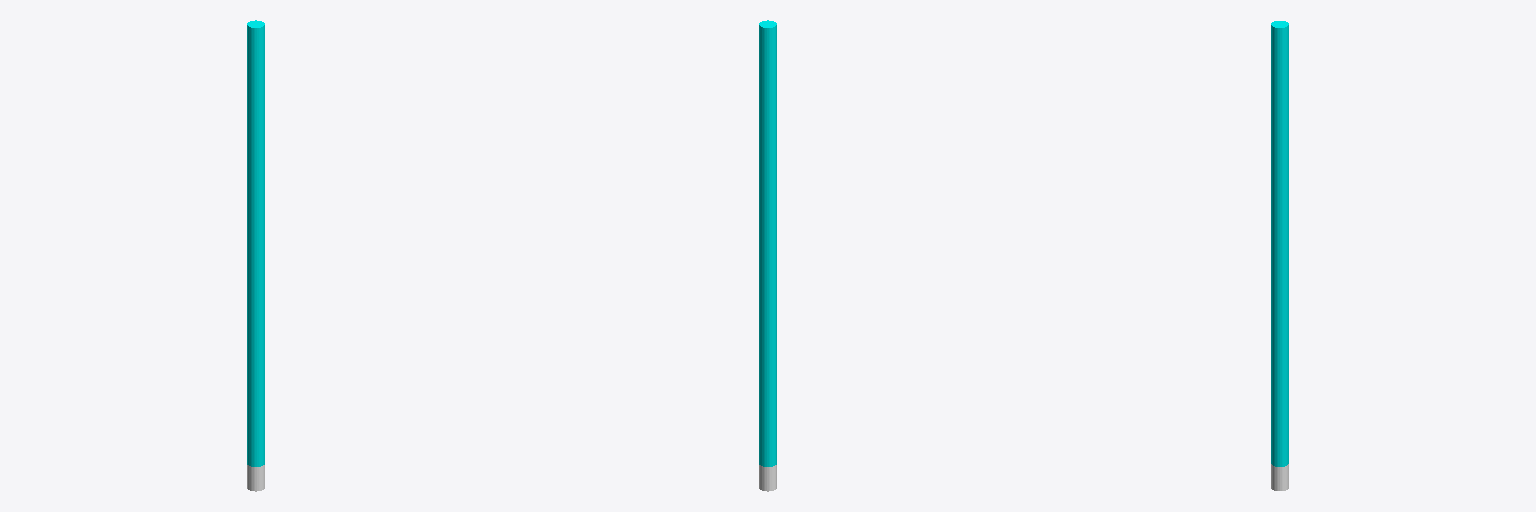
--- Facts derived from the render (not from the file) ---
Views: 3 orthographic renders of the robot side by side, from view 1: azimuth 30°, elevation 25°; view 2: azimuth 150°, elevation 25°; view 3: azimuth 270°, elevation 25°.
Model Line1101 with 37 links and 36 joints (36 revolute), rooted at link1, posed every joint at zero.
Links seen in each view (by area): view 1: fack_link19; view 2: fack_link19; view 3: fack_link19.
Link boxes in pixels (bbox=[...]): fack_link19: bbox=[247, 20, 264, 51]; fack_link19: bbox=[759, 20, 776, 51]; fack_link19: bbox=[1271, 21, 1288, 51].
Size in the robot's own frame: 0.02 by 0.02 by 0.57 metres.
Meshes: 2 distinct files referenced, 37 mesh visuals loaded (2 binary STL).

URDF robot description (Line1101):
<?xml version="1.0" encoding="utf-8"?>
<!-- This URDF was automatically created by SolidWorks to URDF Exporter! Originally created by Stephen Brawner ([email redacted]) 
     Commit Version: 1.6.0-4-g7f85cfe  Build Version: 1.6.7995.38578
     For more information, please see http://wiki.ros.org/sw_urdf_exporter -->

<robot
  name="Line1101">
  <link
    name="link1">
    <inertial>
      <origin
        xyz="0 0 0.015"
        rpy="0 0 0" />
      <mass
        value="0.0094248" />
      <inertia
        ixx="9.4248E-07"
        ixy="0"
        ixz="-2.732E-39"
        iyy="9.4248E-07"
        iyz="-4.5918E-39"
        izz="4.7124E-07" />
    </inertial>
    <visual>
      <origin
        xyz="0 0 0"
        rpy="0 0 0" />
      <geometry>
        <mesh
          filename="package://Line1101/meshes/link1.STL" />
      </geometry>
      <material
        name="link1">
        <color
          rgba="1 1 1 1" />
      </material>
    </visual>
    <collision>
      <origin
        xyz="0 0 0"
        rpy="0 0 0" />
      <geometry>
        <mesh
          filename="package://Line1101/meshes/link1.STL" />
      </geometry>
    </collision>
  </link>
<!--=====================link2 and link3====================-->
<!--=====================link2====================-->
  <joint
    name="fack_joint2"
    type="revolute">
    <origin
      xyz="0 0 0.03"
      rpy="0 0 0" />
    <parent
      link="link1" />
    <child
      link="fack_link2" />
    <axis
      xyz="1 0 0" />
    <limit
      lower="-0.785"
      upper="0.785"
      effort="0"
      velocity="0" />
  </joint>

  <link
    name="fack_link2">
    <visual>
      <origin
        xyz="0 0 0"
        rpy="0 0 0" />
      <geometry>
        <mesh
          filename="package://Line1101/meshes/link2.STL" />
      </geometry>
      <material
        name="fack_link2">
        <color
          rgba="0 1 1 0" />
      </material>
    </visual>
  </link>

  <joint
    name="joint2"
    type="revolute">
    <origin
      xyz="0 0 0"
      rpy="0 0 0" />
    <parent
      link="fack_link2" />
    <child
      link="link2" />
    <axis
      xyz="0 1 0" />
    <limit
      lower="-0.785"
      upper="0.785"
      effort="0"
      velocity="0" />
  </joint>

  <link
    name="link2">
    <inertial>
      <origin
        xyz="0 0 0.015"
        rpy="0 0 0" />
      <mass
        value="0.0094248" />
      <inertia
        ixx="9.4248E-07"
        ixy="0"
        ixz="-2.732E-39"
        iyy="9.4248E-07"
        iyz="-4.5918E-39"
        izz="4.7124E-07" />
    </inertial>
    <visual>
      <origin
        xyz="0 0 0"
        rpy="0 0 0" />
      <geometry>
        <mesh
          filename="package://Line1101/meshes/link2.STL" />
      </geometry>
      <material
        name="link2">
        <color
          rgba="0 1 1 1" />
      </material>
    </visual>
    <collision>
      <origin
        xyz="0 0 0"
        rpy="0 0 0" />
      <geometry>
        <mesh
          filename="package://Line1101/meshes/link2.STL" />
      </geometry>
    </collision>
  </link>
<!--=====================link3====================-->
  <joint
    name="fack_joint3"
    type="revolute">
    <origin
      xyz="0 0 0.03"
      rpy="0 0 0" />
    <parent
      link="link2" />
    <child
      link="fack_link3" />
    <axis
      xyz="1 0 0" />
    <limit
      lower="-0.785"
      upper="0.785"
      effort="0"
      velocity="0" />
  </joint>

  <link
    name="fack_link3">
    <visual>
      <origin
        xyz="0 0 0"
        rpy="0 0 0" />
      <geometry>
        <mesh
          filename="package://Line1101/meshes/link2.STL" />
      </geometry>
      <material
        name="fack_link3">
        <color
          rgba="0 1 1 0" />
      </material>
    </visual>
  </link>

  <joint
    name="joint3"
    type="revolute">
    <origin
      xyz="0 0 0"
      rpy="0 0 0" />
    <parent
      link="fack_link3" />
    <child
      link="link3" />
    <axis
      xyz="0 1 0" />
    <limit
      lower="-0.785"
      upper="0.785"
      effort="0"
      velocity="0" />
  </joint>

  <link
    name="link3">
    <inertial>
      <origin
        xyz="0 0 0.015"
        rpy="0 0 0" />
      <mass
        value="0.0094248" />
      <inertia
        ixx="9.4248E-07"
        ixy="0"
        ixz="-2.732E-39"
        iyy="9.4248E-07"
        iyz="-4.5918E-39"
        izz="4.7124E-07" />
    </inertial>
    <visual>
      <origin
        xyz="0 0 0"
        rpy="0 0 0" />
      <geometry>
        <mesh
          filename="package://Line1101/meshes/link2.STL" />
      </geometry>
      <material
        name="link3">
        <color
          rgba="1 1 1 1" />
      </material>
    </visual>
    <collision>
      <origin
        xyz="0 0 0"
        rpy="0 0 0" />
      <geometry>
        <mesh
          filename="package://Line1101/meshes/link2.STL" />
      </geometry>
    </collision>
  </link>
<!--=====================link4 and link5====================-->
<!--=====================link4====================-->
  <joint
    name="fack_joint4"
    type="revolute">
    <origin
      xyz="0 0 0.03"
      rpy="0 0 0" />
    <parent
      link="link3" />
    <child
      link="fack_link4" />
    <axis
      xyz="1 0 0" />
    <limit
      lower="-0.785"
      upper="0.785"
      effort="0"
      velocity="0" />
  </joint>

  <link
    name="fack_link4">
    <visual>
      <origin
        xyz="0 0 0"
        rpy="0 0 0" />
      <geometry>
        <mesh
          filename="package://Line1101/meshes/link2.STL" />
      </geometry>
      <material
        name="fack_link4">
        <color
          rgba="0 1 1 0" />
      </material>
    </visual>
  </link>

  <joint
    name="joint4"
    type="revolute">
    <origin
      xyz="0 0 0"
      rpy="0 0 0" />
    <parent
      link="fack_link4" />
    <child
      link="link4" />
    <axis
      xyz="0 1 0" />
    <limit
      lower="-0.785"
      upper="0.785"
      effort="0"
      velocity="0" />
  </joint>

  <link
    name="link4">
    <inertial>
      <origin
        xyz="0 0 0.015"
        rpy="0 0 0" />
      <mass
        value="0.0094248" />
      <inertia
        ixx="9.4248E-07"
        ixy="0"
        ixz="-2.732E-39"
        iyy="9.4248E-07"
        iyz="-4.5918E-39"
        izz="4.7124E-07" />
    </inertial>
    <visual>
      <origin
        xyz="0 0 0"
        rpy="0 0 0" />
      <geometry>
        <mesh
          filename="package://Line1101/meshes/link2.STL" />
      </geometry>
      <material
        name="link4">
        <color
          rgba="0 1 1 1" />
      </material>
    </visual>
    <collision>
      <origin
        xyz="0 0 0"
        rpy="0 0 0" />
      <geometry>
        <mesh
          filename="package://Line1101/meshes/link2.STL" />
      </geometry>
    </collision>
  </link>
<!--=====================link5====================-->
  <joint
    name="fack_joint5"
    type="revolute">
    <origin
      xyz="0 0 0.03"
      rpy="0 0 0" />
    <parent
      link="link4" />
    <child
      link="fack_link5" />
    <axis
      xyz="1 0 0" />
    <limit
      lower="-0.785"
      upper="0.785"
      effort="0"
      velocity="0" />
  </joint>

  <link
    name="fack_link5">
    <visual>
      <origin
        xyz="0 0 0"
        rpy="0 0 0" />
      <geometry>
        <mesh
          filename="package://Line1101/meshes/link2.STL" />
      </geometry>
      <material
        name="fack_link5">
        <color
          rgba="0 1 1 0" />
      </material>
    </visual>
  </link>

  <joint
    name="joint5"
    type="revolute">
    <origin
      xyz="0 0 0"
      rpy="0 0 0" />
    <parent
      link="fack_link5" />
    <child
      link="link5" />
    <axis
      xyz="0 1 0" />
    <limit
      lower="-0.785"
      upper="0.785"
      effort="0"
      velocity="0" />
  </joint>

  <link
    name="link5">
    <inertial>
      <origin
        xyz="0 0 0.015"
        rpy="0 0 0" />
      <mass
        value="0.0094248" />
      <inertia
        ixx="9.4248E-07"
        ixy="0"
        ixz="-2.732E-39"
        iyy="9.4248E-07"
        iyz="-4.5918E-39"
        izz="4.7124E-07" />
    </inertial>
    <visual>
      <origin
        xyz="0 0 0"
        rpy="0 0 0" />
      <geometry>
        <mesh
          filename="package://Line1101/meshes/link2.STL" />
      </geometry>
      <material
        name="link5">
        <color
          rgba="1 1 1 1" />
      </material>
    </visual>
    <collision>
      <origin
        xyz="0 0 0"
        rpy="0 0 0" />
      <geometry>
        <mesh
          filename="package://Line1101/meshes/link2.STL" />
      </geometry>
    </collision>
  </link>
<!--=====================link6 and link7====================-->
<!--=====================link6====================-->
  <joint
    name="fack_joint6"
    type="revolute">
    <origin
      xyz="0 0 0.03"
      rpy="0 0 0" />
    <parent
      link="link5" />
    <child
      link="fack_link6" />
    <axis
      xyz="1 0 0" />
    <limit
      lower="-0.785"
      upper="0.785"
      effort="0"
      velocity="0" />
  </joint>

  <link
    name="fack_link6">
    <visual>
      <origin
        xyz="0 0 0"
        rpy="0 0 0" />
      <geometry>
        <mesh
          filename="package://Line1101/meshes/link2.STL" />
      </geometry>
      <material
        name="fack_link6">
        <color
          rgba="0 1 1 0" />
      </material>
    </visual>
  </link>

  <joint
    name="joint6"
    type="revolute">
    <origin
      xyz="0 0 0"
      rpy="0 0 0" />
    <parent
      link="fack_link6" />
    <child
      link="link6" />
    <axis
      xyz="0 1 0" />
    <limit
      lower="-0.785"
      upper="0.785"
      effort="0"
      velocity="0" />
  </joint>

  <link
    name="link6">
    <inertial>
      <origin
        xyz="0 0 0.015"
        rpy="0 0 0" />
      <mass
        value="0.0094248" />
      <inertia
        ixx="9.4248E-07"
        ixy="0"
        ixz="-2.732E-39"
        iyy="9.4248E-07"
        iyz="-4.5918E-39"
        izz="4.7124E-07" />
    </inertial>
    <visual>
      <origin
        xyz="0 0 0"
        rpy="0 0 0" />
      <geometry>
        <mesh
          filename="package://Line1101/meshes/link2.STL" />
      </geometry>
      <material
        name="link6">
        <color
          rgba="0 1 1 1" />
      </material>
    </visual>
    <collision>
      <origin
        xyz="0 0 0"
        rpy="0 0 0" />
      <geometry>
        <mesh
          filename="package://Line1101/meshes/link2.STL" />
      </geometry>
    </collision>
  </link>
<!--=====================link7====================-->
  <joint
    name="fack_joint7"
    type="revolute">
    <origin
      xyz="0 0 0.03"
      rpy="0 0 0" />
    <parent
      link="link6" />
    <child
      link="fack_link7" />
    <axis
      xyz="1 0 0" />
    <limit
      lower="-0.785"
      upper="0.785"
      effort="0"
      velocity="0" />
  </joint>

  <link
    name="fack_link7">
    <visual>
      <origin
        xyz="0 0 0"
        rpy="0 0 0" />
      <geometry>
        <mesh
          filename="package://Line1101/meshes/link2.STL" />
      </geometry>
      <material
        name="fack_link7">
        <color
          rgba="0 1 1 0" />
      </material>
    </visual>
  </link>

  <joint
    name="joint7"
    type="revolute">
    <origin
      xyz="0 0 0"
      rpy="0 0 0" />
    <parent
      link="fack_link7" />
    <child
      link="link7" />
    <axis
      xyz="0 1 0" />
    <limit
      lower="-0.785"
      upper="0.785"
      effort="0"
      velocity="0" />
  </joint>

  <link
    name="link7">
    <inertial>
      <origin
        xyz="0 0 0.015"
        rpy="0 0 0" />
      <mass
        value="0.0094248" />
      <inertia
        ixx="9.4248E-07"
        ixy="0"
        ixz="-2.732E-39"
        iyy="9.4248E-07"
        iyz="-4.5918E-39"
        izz="4.7124E-07" />
    </inertial>
    <visual>
      <origin
        xyz="0 0 0"
        rpy="0 0 0" />
      <geometry>
        <mesh
          filename="package://Line1101/meshes/link2.STL" />
      </geometry>
      <material
        name="link7">
        <color
          rgba="1 1 1 1" />
      </material>
    </visual>
    <collision>
      <origin
        xyz="0 0 0"
        rpy="0 0 0" />
      <geometry>
        <mesh
          filename="package://Line1101/meshes/link2.STL" />
      </geometry>
    </collision>
  </link>

<!--=====================link8 and link9====================-->
<!--=====================link8====================-->
  <joint
    name="fack_joint8"
    type="revolute">
    <origin
      xyz="0 0 0.03"
      rpy="0 0 0" />
    <parent
      link="link7" />
    <child
      link="fack_link8" />
    <axis
      xyz="1 0 0" />
    <limit
      lower="-0.785"
      upper="0.785"
      effort="0"
      velocity="0" />
  </joint>

  <link
    name="fack_link8">
    <visual>
      <origin
        xyz="0 0 0"
        rpy="0 0 0" />
      <geometry>
        <mesh
          filename="package://Line1101/meshes/link2.STL" />
      </geometry>
      <material
        name="fack_link8">
        <color
          rgba="0 1 1 0" />
      </material>
    </visual>
  </link>

  <joint
    name="joint8"
    type="revolute">
    <origin
      xyz="0 0 0"
      rpy="0 0 0" />
    <parent
      link="fack_link8" />
    <child
      link="link8" />
    <axis
      xyz="0 1 0" />
    <limit
      lower="-0.785"
      upper="0.785"
      effort="0"
      velocity="0" />
  </joint>

  <link
    name="link8">
    <inertial>
      <origin
        xyz="0 0 0.015"
        rpy="0 0 0" />
      <mass
        value="0.0094248" />
      <inertia
        ixx="9.4248E-07"
        ixy="0"
        ixz="-2.732E-39"
        iyy="9.4248E-07"
        iyz="-4.5918E-39"
        izz="4.7124E-07" />
    </inertial>
    <visual>
      <origin
        xyz="0 0 0"
        rpy="0 0 0" />
      <geometry>
        <mesh
          filename="package://Line1101/meshes/link2.STL" />
      </geometry>
      <material
        name="link8">
        <color
          rgba="0 1 1 1" />
      </material>
    </visual>
    <collision>
      <origin
        xyz="0 0 0"
        rpy="0 0 0" />
      <geometry>
        <mesh
          filename="package://Line1101/meshes/link2.STL" />
      </geometry>
    </collision>
  </link>
<!--=====================link9====================-->
  <joint
    name="fack_joint9"
    type="revolute">
    <origin
      xyz="0 0 0.03"
      rpy="0 0 0" />
    <parent
      link="link8" />
    <child
      link="fack_link9" />
    <axis
      xyz="1 0 0" />
    <limit
      lower="-0.785"
      upper="0.785"
      effort="0"
      velocity="0" />
  </joint>

  <link
    name="fack_link9">
    <visual>
      <origin
        xyz="0 0 0"
        rpy="0 0 0" />
      <geometry>
        <mesh
          filename="package://Line1101/meshes/link2.STL" />
      </geometry>
      <material
        name="fack_link9">
        <color
          rgba="0 1 1 0" />
      </material>
    </visual>
  </link>

  <joint
    name="joint9"
    type="revolute">
    <origin
      xyz="0 0 0"
      rpy="0 0 0" />
    <parent
      link="fack_link9" />
    <child
      link="link9" />
    <axis
      xyz="0 1 0" />
    <limit
      lower="-0.785"
      upper="0.785"
      effort="0"
      velocity="0" />
  </joint>

  <link
    name="link9">
    <inertial>
      <origin
        xyz="0 0 0.015"
        rpy="0 0 0" />
      <mass
        value="0.0094248" />
      <inertia
        ixx="9.4248E-07"
        ixy="0"
        ixz="-2.732E-39"
        iyy="9.4248E-07"
        iyz="-4.5918E-39"
        izz="4.7124E-07" />
    </inertial>
    <visual>
      <origin
        xyz="0 0 0"
        rpy="0 0 0" />
      <geometry>
        <mesh
          filename="package://Line1101/meshes/link2.STL" />
      </geometry>
      <material
        name="link9">
        <color
          rgba="1 1 1 1" />
      </material>
    </visual>
    <collision>
      <origin
        xyz="0 0 0"
        rpy="0 0 0" />
      <geometry>
        <mesh
          filename="package://Line1101/meshes/link2.STL" />
      </geometry>
    </collision>
  </link>
<!--=====================link10 and link11====================-->
<!--=====================link10====================-->
  <joint
    name="fack_joint10"
    type="revolute">
    <origin
      xyz="0 0 0.03"
      rpy="0 0 0" />
    <parent
      link="link9" />
    <child
      link="fack_link10" />
    <axis
      xyz="1 0 0" />
    <limit
      lower="-0.785"
      upper="0.785"
      effort="0"
      velocity="0" />
  </joint>

  <link
    name="fack_link10">
    <visual>
      <origin
        xyz="0 0 0"
        rpy="0 0 0" />
      <geometry>
        <mesh
          filename="package://Line1101/meshes/link2.STL" />
      </geometry>
      <material
        name="fack_link10">
        <color
          rgba="0 1 1 0" />
      </material>
    </visual>
  </link>

  <joint
    name="joint10"
    type="revolute">
    <origin
      xyz="0 0 0"
      rpy="0 0 0" />
    <parent
      link="fack_link10" />
    <child
      link="link10" />
    <axis
      xyz="0 1 0" />
    <limit
      lower="-0.785"
      upper="0.785"
      effort="0"
      velocity="0" />
  </joint>

  <link
    name="link10">
    <inertial>
      <origin
        xyz="0 0 0.015"
        rpy="0 0 0" />
      <mass
        value="0.0094248" />
      <inertia
        ixx="9.4248E-07"
        ixy="0"
        ixz="-2.732E-39"
        iyy="9.4248E-07"
        iyz="-4.5918E-39"
        izz="4.7124E-07" />
    </inertial>
    <visual>
      <origin
        xyz="0 0 0"
        rpy="0 0 0" />
      <geometry>
        <mesh
          filename="package://Line1101/meshes/link2.STL" />
      </geometry>
      <material
        name="link10">
        <color
          rgba="0 1 1 1" />
      </material>
    </visual>
    <collision>
      <origin
        xyz="0 0 0"
        rpy="0 0 0" />
      <geometry>
        <mesh
          filename="package://Line1101/meshes/link2.STL" />
      </geometry>
    </collision>
  </link>
<!--=====================link11====================-->
  <joint
    name="fack_joint1-1"
    type="revolute">
    <origin
      xyz="0 0 0.03"
      rpy="0 0 0" />
    <parent
      link="link10" />
    <child
      link="fack_link1-1" />
    <axis
      xyz="1 0 0" />
    <limit
      lower="-0.785"
      upper="0.785"
      effort="0"
      velocity="0" />
  </joint>

  <link
    name="fack_link1-1">
    <visual>
      <origin
        xyz="0 0 0"
        rpy="0 0 0" />
      <geometry>
        <mesh
          filename="package://Line1101/meshes/link2.STL" />
      </geometry>
      <material
        name="fack_link1-1">
        <color
          rgba="0 1 1 0" />
      </material>
    </visual>
  </link>

  <joint
    name="joint1-1"
    type="revolute">
    <origin
      xyz="0 0 0"
      rpy="0 0 0" />
    <parent
      link="fack_link1-1" />
    <child
      link="link1-1" />
    <axis
      xyz="0 1 0" />
    <limit
      lower="-0.785"
      upper="0.785"
      effort="0"
      velocity="0" />
  </joint>

  <link
    name="link1-1">
    <inertial>
      <origin
        xyz="0 0 0.015"
        rpy="0 0 0" />
      <mass
        value="0.0094248" />
      <inertia
        ixx="9.4248E-07"
        ixy="0"
        ixz="-2.732E-39"
        iyy="9.4248E-07"
        iyz="-4.5918E-39"
        izz="4.7124E-07" />
    </inertial>
    <visual>
      <origin
        xyz="0 0 0"
        rpy="0 0 0" />
      <geometry>
        <mesh
          filename="package://Line1101/meshes/link2.STL" />
      </geometry>
      <material
        name="link1-1">
        <color
          rgba="1 1 1 1" />
      </material>
    </visual>
    <collision>
      <origin
        xyz="0 0 0"
        rpy="0 0 0" />
      <geometry>
        <mesh
          filename="package://Line1101/meshes/link2.STL" />
      </geometry>
    </collision>
  </link>

<!--=====================link12 and link13====================-->
<!--=====================link12====================-->
  <joint
    name="fack_joint12"
    type="revolute">
    <origin
      xyz="0 0 0.03"
      rpy="0 0 0" />
    <parent
      link="link1-1" />
    <child
      link="fack_link12" />
    <axis
      xyz="1 0 0" />
    <limit
      lower="-0.785"
      upper="0.785"
      effort="0"
      velocity="0" />
  </joint>

  <link
    name="fack_link12">
    <visual>
      <origin
        xyz="0 0 0"
        rpy="0 0 0" />
      <geometry>
        <mesh
          filename="package://Line1101/meshes/link2.STL" />
      </geometry>
      <material
        name="fack_link12">
        <color
          rgba="0 1 1 0" />
      </material>
    </visual>
  </link>

  <joint
    name="joint12"
    type="revolute">
    <origin
      xyz="0 0 0"
      rpy="0 0 0" />
    <parent
      link="fack_link12" />
    <child
      link="link12" />
    <axis
      xyz="0 1 0" />
    <limit
      lower="-0.785"
      upper="0.785"
      effort="0"
      velocity="0" />
  </joint>

  <link
    name="link12">
    <inertial>
      <origin
        xyz="0 0 0.015"
        rpy="0 0 0" />
      <mass
        value="0.0094248" />
      <inertia
        ixx="9.4248E-07"
        ixy="0"
        ixz="-2.732E-39"
        iyy="9.4248E-07"
        iyz="-4.5918E-39"
        izz="4.7124E-07" />
    </inertial>
    <visual>
      <origin
        xyz="0 0 0"
        rpy="0 0 0" />
      <geometry>
        <mesh
          filename="package://Line1101/meshes/link2.STL" />
      </geometry>
      <material
        name="link12">
        <color
          rgba="0 1 1 1" />
      </material>
    </visual>
    <collision>
      <origin
        xyz="0 0 0"
        rpy="0 0 0" />
      <geometry>
        <mesh
          filename="package://Line1101/meshes/link2.STL" />
      </geometry>
    </collision>
  </link>
<!--=====================link13====================-->
  <joint
    name="fack_joint13"
    type="revolute">
    <origin
      xyz="0 0 0.03"
      rpy="0 0 0" />
    <parent
      link="link12" />
    <child
      link="fack_link13" />
    <axis
      xyz="1 0 0" />
    <limit
      lower="-0.785"
      upper="0.785"
      effort="0"
      velocity="0" />
  </joint>

  <link
    name="fack_link13">
    <visual>
      <origin
        xyz="0 0 0"
        rpy="0 0 0" />
      <geometry>
        <mesh
          filename="package://Line1101/meshes/link2.STL" />
      </geometry>
      <material
        name="fack_link13">
        <color
          rgba="0 1 1 0" />
      </material>
    </visual>
  </link>

  <joint
    name="joint13"
    type="revolute">
    <origin
      xyz="0 0 0"
      rpy="0 0 0" />
    <parent
      link="fack_link13" />
    <child
      link="link13" />
    <axis
      xyz="0 1 0" />
    <limit
      lower="-0.785"
      upper="0.785"
      effort="0"
      velocity="0" />
  </joint>

  <link
    name="link13">
    <inertial>
      <origin
        xyz="0 0 0.015"
        rpy="0 0 0" />
      <mass
        value="0.0094248" />
      <inertia
        ixx="9.4248E-07"
        ixy="0"
        ixz="-2.732E-39"
        iyy="9.4248E-07"
        iyz="-4.5918E-39"
        izz="4.7124E-07" />
    </inertial>
    <visual>
      <origin
        xyz="0 0 0"
        rpy="0 0 0" />
      <geometry>
        <mesh
          filename="package://Line1101/meshes/link2.STL" />
      </geometry>
      <material
        name="link13">
        <color
          rgba="1 1 1 1" />
      </material>
    </visual>
    <collision>
      <origin
        xyz="0 0 0"
        rpy="0 0 0" />
      <geometry>
        <mesh
          filename="package://Line1101/meshes/link2.STL" />
      </geometry>
    </collision>
  </link>

<!--=====================link14 and link15====================-->
<!--=====================link14====================-->
  <joint
    name="fack_joint14"
    type="revolute">
    <origin
      xyz="0 0 0.03"
      rpy="0 0 0" />
    <parent
      link="link13" />
    <child
      link="fack_link14" />
    <axis
      xyz="1 0 0" />
    <limit
      lower="-0.785"
      upper="0.785"
      effort="0"
      velocity="0" />
  </joint>

  <link
    name="fack_link14">
    <visual>
      <origin
        xyz="0 0 0"
        rpy="0 0 0" />
      <geometry>
        <mesh
          filename="package://Line1101/meshes/link2.STL" />
      </geometry>
      <material
        name="fack_link14">
        <color
          rgba="0 1 1 0" />
      </material>
    </visual>
  </link>

  <joint
    name="joint14"
    type="revolute">
    <origin
      xyz="0 0 0"
      rpy="0 0 0" />
    <parent
      link="fack_link14" />
    <child
      link="link14" />
    <axis
      xyz="0 1 0" />
    <limit
      lower="-0.785"
      upper="0.785"
      effort="0"
      velocity="0" />
  </joint>

  <link
    name="link14">
    <inertial>
      <origin
        xyz="0 0 0.015"
        rpy="0 0 0" />
      <mass
        value="0.0094248" />
      <inertia
        ixx="9.4248E-07"
        ixy="0"
        ixz="-2.732E-39"
        iyy="9.4248E-07"
        iyz="-4.5918E-39"
        izz="4.7124E-07" />
    </inertial>
    <visual>
      <origin
        xyz="0 0 0"
        rpy="0 0 0" />
      <geometry>
        <mesh
          filename="package://Line1101/meshes/link2.STL" />
      </geometry>
      <material
        name="link14">
        <color
          rgba="0 1 1 1" />
      </material>
    </visual>
    <collision>
      <origin
        xyz="0 0 0"
        rpy="0 0 0" />
      <geometry>
        <mesh
          filename="package://Line1101/meshes/link2.STL" />
      </geometry>
    </collision>
  </link>
<!--=====================link15====================-->
  <joint
    name="fack_joint15"
    type="revolute">
    <origin
      xyz="0 0 0.03"
      rpy="0 0 0" />
    <parent
      link="link14" />
    <child
      link="fack_link15" />
    <axis
      xyz="1 0 0" />
    <limit
      lower="-0.785"
      upper="0.785"
      effort="0"
      velocity="0" />
  </joint>

  <link
    name="fack_link15">
    <visual>
      <origin
        xyz="0 0 0"
        rpy="0 0 0" />
      <geometry>
        <mesh
          filename="package://Line1101/meshes/link2.STL" />
      </geometry>
      <material
        name="fack_link15">
        <color
          rgba="0 1 1 0" />
      </material>
    </visual>
  </link>

  <joint
    name="joint15"
    type="revolute">
    <origin
      xyz="0 0 0"
      rpy="0 0 0" />
    <parent
      link="fack_link15" />
    <child
      link="link15" />
    <axis
      xyz="0 1 0" />
    <limit
      lower="-0.785"
      upper="0.785"
      effort="0"
      velocity="0" />
  </joint>

  <link
    name="link15">
    <inertial>
      <origin
        xyz="0 0 0.015"
        rpy="0 0 0" />
      <mass
        value="0.0094248" />
      <inertia
        ixx="9.4248E-07"
        ixy="0"
        ixz="-2.732E-39"
        iyy="9.4248E-07"
        iyz="-4.5918E-39"
        izz="4.7124E-07" />
    </inertial>
    <visual>
      <origin
        xyz="0 0 0"
        rpy="0 0 0" />
      <geometry>
        <mesh
          filename="package://Line1101/meshes/link2.STL" />
      </geometry>
      <material
        name="link15">
        <color
          rgba="1 1 1 1" />
      </material>
    </visual>
    <collision>
      <origin
        xyz="0 0 0"
        rpy="0 0 0" />
      <geometry>
        <mesh
          filename="package://Line1101/meshes/link2.STL" />
      </geometry>
    </collision>
  </link>

<!--=====================link16 and link17====================-->
<!--=====================link16====================-->
  <joint
    name="fack_joint16"
    type="revolute">
    <origin
      xyz="0 0 0.03"
      rpy="0 0 0" />
    <parent
      link="link15" />
    <child
      link="fack_link16" />
    <axis
      xyz="1 0 0" />
    <limit
      lower="-0.785"
      upper="0.785"
      effort="0"
      velocity="0" />
  </joint>

  <link
    name="fack_link16">
    <visual>
      <origin
        xyz="0 0 0"
        rpy="0 0 0" />
      <geometry>
        <mesh
          filename="package://Line1101/meshes/link2.STL" />
      </geometry>
      <material
        name="fack_link16">
        <color
          rgba="0 1 1 0" />
      </material>
    </visual>
  </link>

  <joint
    name="joint16"
    type="revolute">
    <origin
      xyz="0 0 0"
      rpy="0 0 0" />
    <parent
      link="fack_link16" />
    <child
      link="link16" />
    <axis
      xyz="0 1 0" />
    <limit
      lower="-0.785"
      upper="0.785"
      effort="0"
      velocity="0" />
  </joint>

  <link
    name="link16">
    <inertial>
      <origin
        xyz="0 0 0.015"
        rpy="0 0 0" />
      <mass
        value="0.0094248" />
      <inertia
        ixx="9.4248E-07"
        ixy="0"
        ixz="-2.732E-39"
        iyy="9.4248E-07"
        iyz="-4.5918E-39"
        izz="4.7124E-07" />
    </inertial>
    <visual>
      <origin
        xyz="0 0 0"
        rpy="0 0 0" />
      <geometry>
        <mesh
          filename="package://Line1101/meshes/link2.STL" />
      </geometry>
      <material
        name="link16">
        <color
          rgba="0 1 1 1" />
      </material>
    </visual>
    <collision>
      <origin
        xyz="0 0 0"
        rpy="0 0 0" />
      <geometry>
        <mesh
          filename="package://Line1101/meshes/link2.STL" />
      </geometry>
    </collision>
  </link>
<!--=====================link17====================-->
  <joint
    name="fack_joint17"
    type="revolute">
    <origin
      xyz="0 0 0.03"
      rpy="0 0 0" />
    <parent
      link="link16" />
    <child
      link="fack_link17" />
    <axis
      xyz="1 0 0" />
    <limit
      lower="-0.785"
      upper="0.785"
      effort="0"
      velocity="0" />
  </joint>

  <link
    name="fack_link17">
    <visual>
      <origin
        xyz="0 0 0"
        rpy="0 0 0" />
      <geometry>
        <mesh
          filename="package://Line1101/meshes/link2.STL" />
      </geometry>
      <material
        name="fack_link17">
        <color
          rgba="0 1 1 0" />
      </material>
    </visual>
  </link>

  <joint
    name="joint17"
    type="revolute">
    <origin
      xyz="0 0 0"
      rpy="0 0 0" />
    <parent
      link="fack_link17" />
    <child
      link="link17" />
    <axis
      xyz="0 1 0" />
    <limit
      lower="-0.785"
      upper="0.785"
      effort="0"
      velocity="0" />
  </joint>

  <link
    name="link17">
    <inertial>
      <origin
        xyz="0 0 0.015"
        rpy="0 0 0" />
      <mass
        value="0.0094248" />
      <inertia
        ixx="9.4248E-07"
        ixy="0"
        ixz="-2.732E-39"
        iyy="9.4248E-07"
        iyz="-4.5918E-39"
        izz="4.7124E-07" />
    </inertial>
    <visual>
      <origin
        xyz="0 0 0"
        rpy="0 0 0" />
      <geometry>
        <mesh
          filename="package://Line1101/meshes/link2.STL" />
      </geometry>
      <material
        name="link17">
        <color
          rgba="1 1 1 1" />
      </material>
    </visual>
    <collision>
      <origin
        xyz="0 0 0"
        rpy="0 0 0" />
      <geometry>
        <mesh
          filename="package://Line1101/meshes/link2.STL" />
      </geometry>
    </collision>
  </link>

<!--=====================link18 and link19====================-->
<!--=====================link18====================-->
  <joint
    name="fack_joint18"
    type="revolute">
    <origin
      xyz="0 0 0.03"
      rpy="0 0 0" />
    <parent
      link="link17" />
    <child
      link="fack_link18" />
    <axis
      xyz="1 0 0" />
    <limit
      lower="-0.785"
      upper="0.785"
      effort="0"
      velocity="0" />
  </joint>

  <link
    name="fack_link18">
    <visual>
      <origin
        xyz="0 0 0"
        rpy="0 0 0" />
      <geometry>
        <mesh
          filename="package://Line1101/meshes/link2.STL" />
      </geometry>
      <material
        name="fack_link18">
        <color
          rgba="0 1 1 0" />
      </material>
    </visual>
  </link>

  <joint
    name="joint18"
    type="revolute">
    <origin
      xyz="0 0 0"
      rpy="0 0 0" />
    <parent
      link="fack_link18" />
    <child
      link="link18" />
    <axis
      xyz="0 1 0" />
    <limit
      lower="-0.785"
      upper="0.785"
      effort="0"
      velocity="0" />
  </joint>

  <link
    name="link18">
    <inertial>
      <origin
        xyz="0 0 0.015"
        rpy="0 0 0" />
      <mass
        value="0.0094248" />
      <inertia
        ixx="9.4248E-07"
        ixy="0"
        ixz="-2.732E-39"
        iyy="9.4248E-07"
        iyz="-4.5918E-39"
        izz="4.7124E-07" />
    </inertial>
    <visual>
      <origin
        xyz="0 0 0"
        rpy="0 0 0" />
      <geometry>
        <mesh
          filename="package://Line1101/meshes/link2.STL" />
      </geometry>
      <material
        name="link18">
        <color
          rgba="0 1 1 1" />
      </material>
    </visual>
    <collision>
      <origin
        xyz="0 0 0"
        rpy="0 0 0" />
      <geometry>
        <mesh
          filename="package://Line1101/meshes/link2.STL" />
      </geometry>
    </collision>
  </link>
<!--=====================link19====================-->
  <joint
    name="fack_joint19"
    type="revolute">
    <origin
      xyz="0 0 0.03"
      rpy="0 0 0" />
    <parent
      link="link18" />
    <child
      link="fack_link19" />
    <axis
      xyz="1 0 0" />
    <limit
      lower="-0.785"
      upper="0.785"
      effort="0"
      velocity="0" />
  </joint>

  <link
    name="fack_link19">
    <visual>
      <origin
        xyz="0 0 0"
        rpy="0 0 0" />
      <geometry>
        <mesh
          filename="package://Line1101/meshes/link2.STL" />
      </geometry>
      <material
        name="fack_link19">
        <color
          rgba="0 1 1 0" />
      </material>
    </visual>
  </link>

  <joint
    name="joint19"
    type="revolute">
    <origin
      xyz="0 0 0"
      rpy="0 0 0" />
    <parent
      link="fack_link19" />
    <child
      link="link19" />
    <axis
      xyz="0 1 0" />
    <limit
      lower="-0.785"
      upper="0.785"
      effort="0"
      velocity="0" />
  </joint>

  <link
    name="link19">
    <inertial>
      <origin
        xyz="0 0 0.015"
        rpy="0 0 0" />
      <mass
        value="0.0094248" />
      <inertia
        ixx="9.4248E-07"
        ixy="0"
        ixz="-2.732E-39"
        iyy="9.4248E-07"
        iyz="-4.5918E-39"
        izz="4.7124E-07" />
    </inertial>
    <visual>
      <origin
        xyz="0 0 0"
        rpy="0 0 0" />
      <geometry>
        <mesh
          filename="package://Line1101/meshes/link2.STL" />
      </geometry>
      <material
        name="link19">
        <color
          rgba="1 1 1 1" />
      </material>
    </visual>
    <collision>
      <origin
        xyz="0 0 0"
        rpy="0 0 0" />
      <geometry>
        <mesh
          filename="package://Line1101/meshes/link2.STL" />
      </geometry>
    </collision>
  </link>
</robot>
